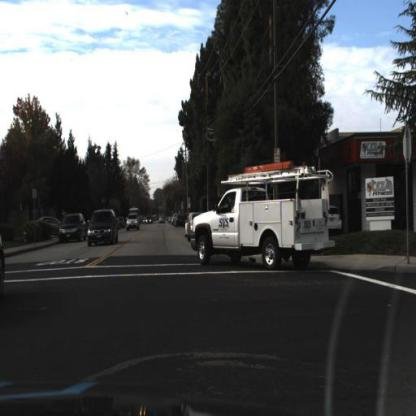car: (176, 157, 342, 286), (87, 208, 121, 245), (57, 213, 88, 247), (60, 215, 88, 243), (34, 212, 61, 235), (125, 211, 144, 234), (329, 205, 344, 234), (157, 212, 168, 228)
truck: (189, 187, 330, 273)
